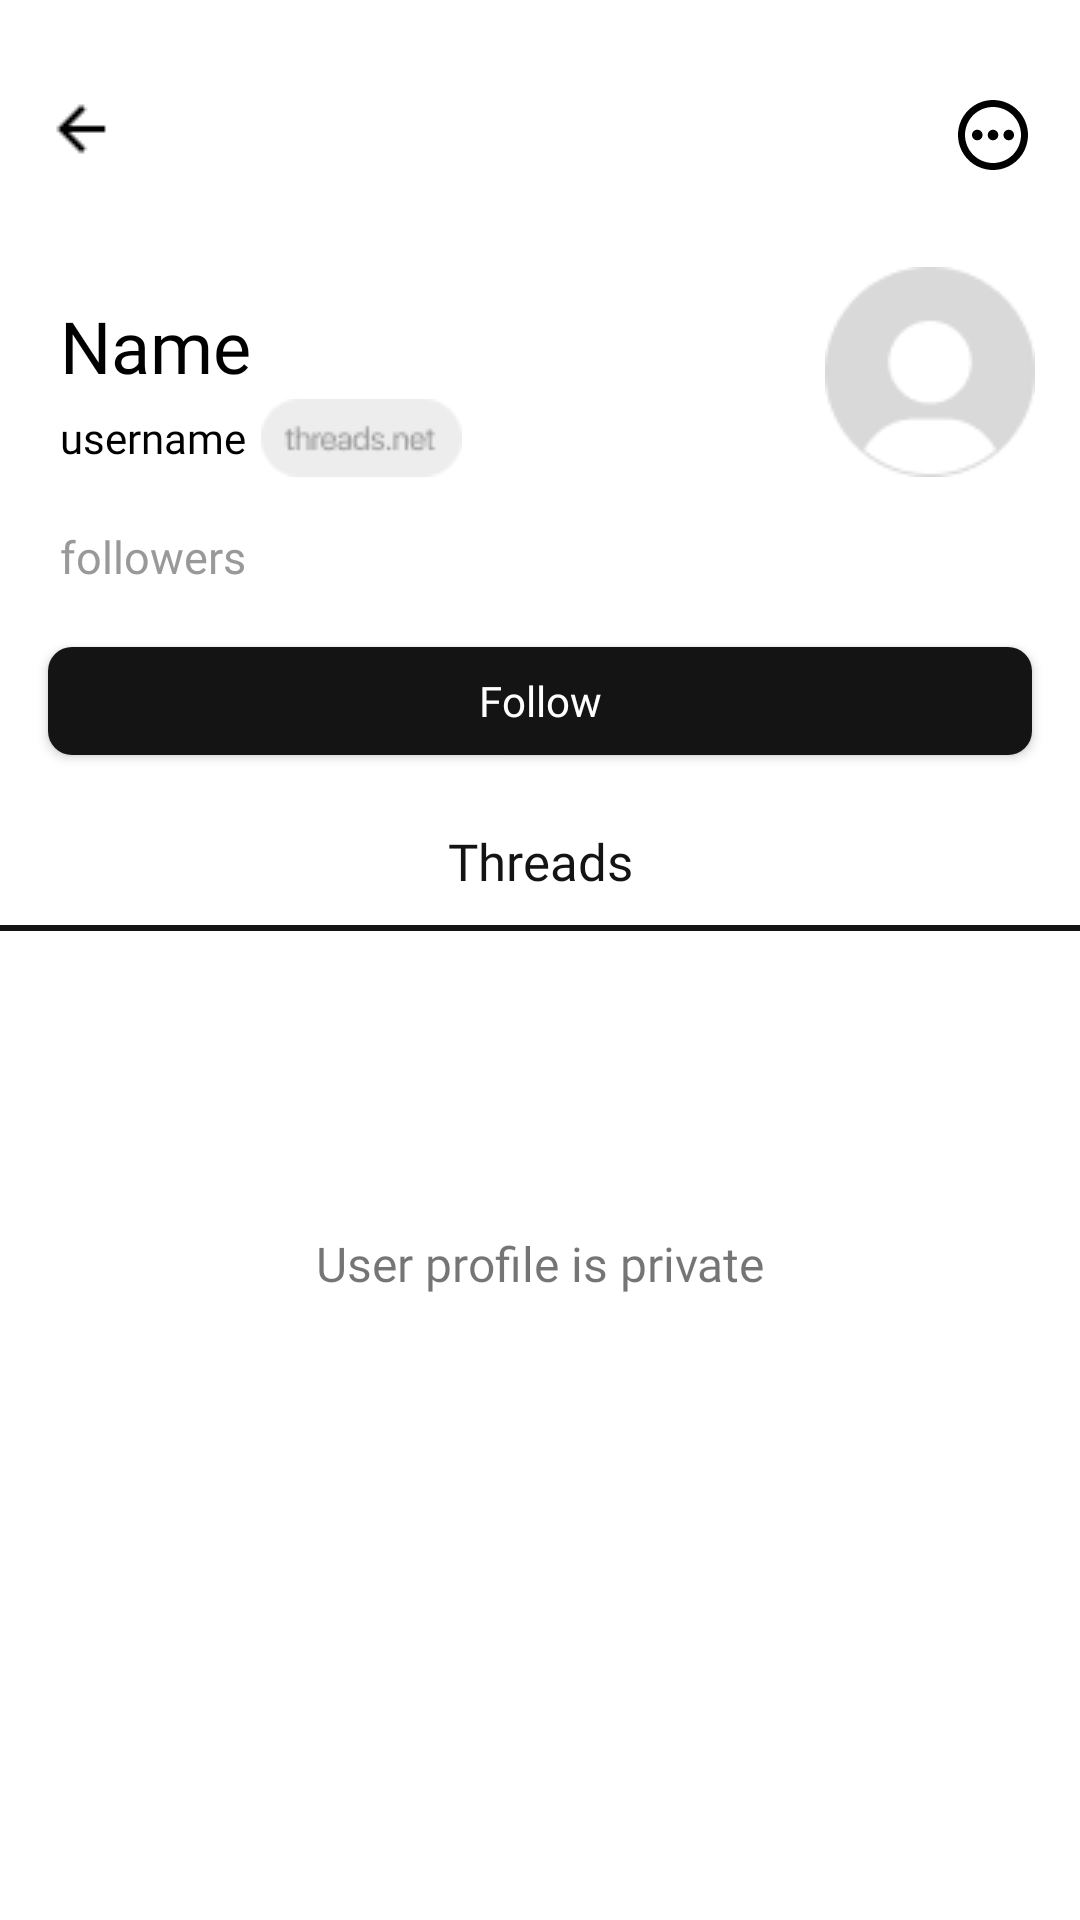

Where icons sit on this 1080w x 1920h app screen, as (x1, y1, x2, y2):
arrow left: (56, 104, 106, 154)
dots horizontal circle: (958, 100, 1028, 170)
profile photo: (825, 267, 1035, 477)
